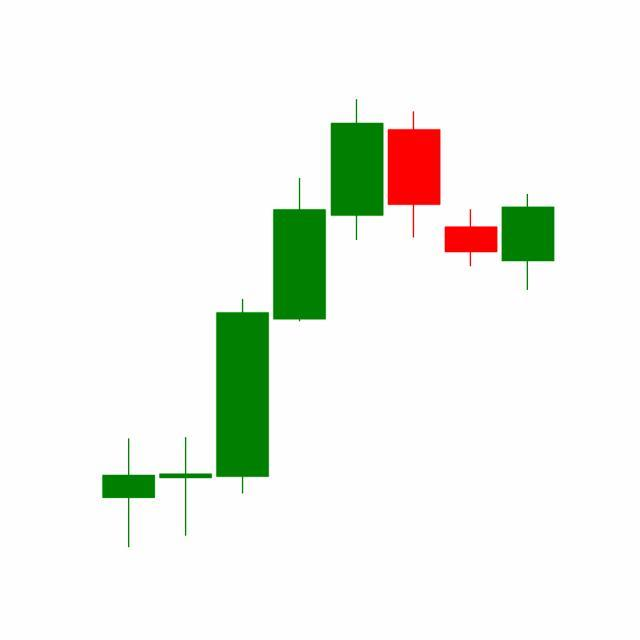Hikkake Pattern: (214, 99, 501, 499)
